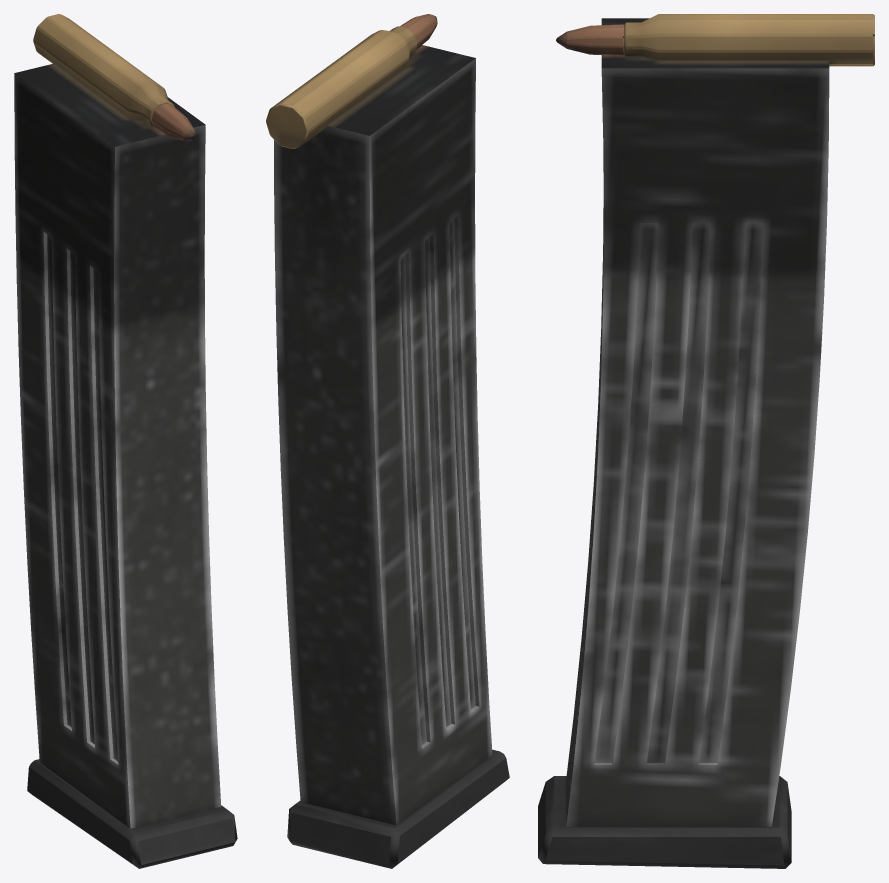
The model's file is tactical_smg_mag.glb.
3 views of the same model, side by side, from view 1: azimuth 30°, elevation 25°; view 2: azimuth 150°, elevation 25°; view 3: azimuth 270°, elevation 25° (orthographic). The views are drawn at different scales.
Parts seen in each view (by area): view 1: magazine; view 2: magazine; view 3: magazine.
Part boxes in pixels (x1,y1,x2,y2): magazine: (14, 14, 237, 868); magazine: (266, 14, 509, 868); magazine: (538, 14, 874, 868).
Bounding box in the file's own units: 0.024 × 0.1614 × 0.0592.
Materials: 1 (1 with a texture image).
